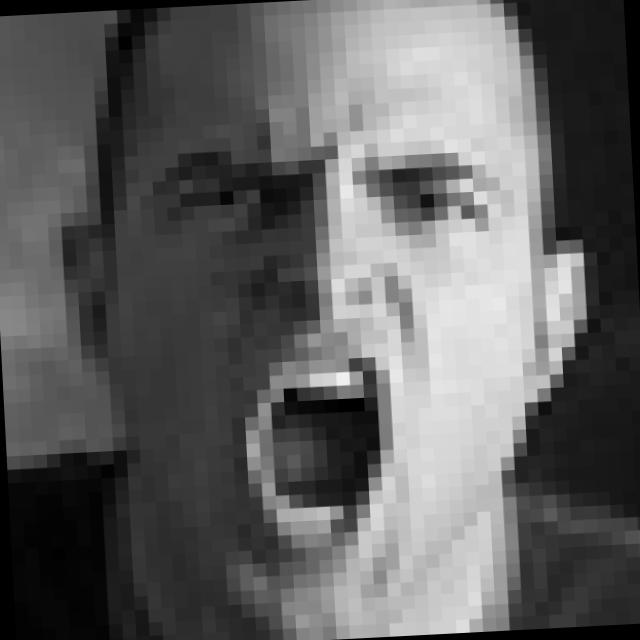angry: (142, 121, 528, 588)
